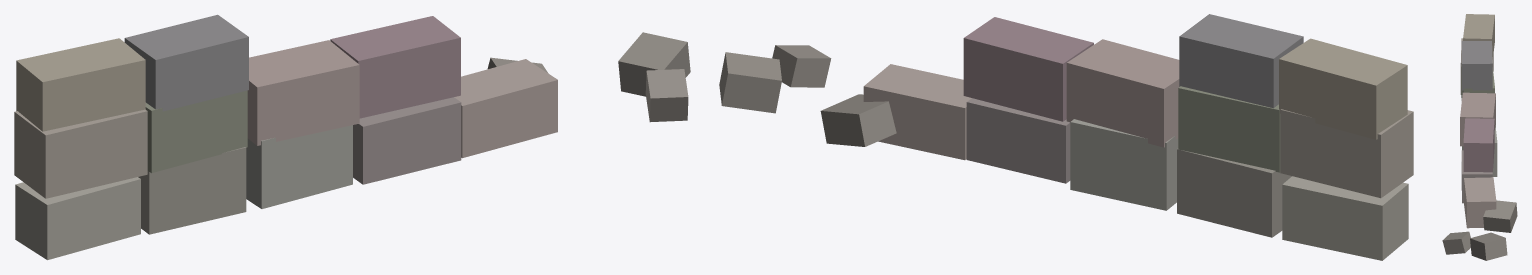
The model's file is ruined_wall.glb.
3 renders of one model, left to right at view 1: azimuth 30°, elevation 25°; view 2: azimuth 150°, elevation 25°; view 3: azimuth 270°, elevation 25°, orthographic. The views are drawn at different scales.
Visible parts, largest first — view 1: stone_block_07, stone_block_09, stone_block_05, stone_block_08, stone_block_10, stone_block_00, stone_block_04, stone_block_03, stone_block_02, stone_block_01, stone_block_06, stone_debris_00 (+1 smaller); view 2: stone_block_09, stone_block_07, stone_block_08, stone_block_05, stone_block_00, stone_block_10, stone_block_02, stone_block_01, stone_block_04, stone_block_03, stone_block_06, stone_debris_00 (+2 smaller); view 3: stone_block_08, stone_block_10, stone_block_04, stone_block_07, stone_debris_01, stone_block_09, stone_debris_00, stone_debris_02, stone_block_03, stone_block_06, stone_block_02, stone_block_05.
Part boxes in pixels (x1,y1,x2,y2): stone_block_07: (247,40,359,145); stone_block_09: (16,38,145,131); stone_block_05: (14,109,147,198); stone_block_08: (330,16,460,118); stone_block_10: (124,14,248,111); stone_block_00: (15,177,140,260); stone_block_04: (454,59,557,158); stone_block_03: (353,97,461,184); stone_block_02: (246,125,352,208); stone_block_01: (138,147,246,234); stone_block_06: (145,90,247,173); stone_debris_00: (618,32,690,96); stone_block_09: (1279,38,1407,139); stone_block_07: (1066,39,1179,147); stone_block_08: (963,17,1093,121); stone_block_05: (1280,109,1413,198); stone_block_00: (1282,176,1408,260); stone_block_10: (1179,14,1303,108); stone_block_02: (1070,119,1178,210); stone_block_01: (1177,148,1291,237); stone_block_04: (863,64,971,160); stone_block_03: (966,98,1070,183); stone_block_06: (1178,86,1280,172); stone_debris_00: (719,52,781,113); stone_block_08: (1463,118,1494,172); stone_block_10: (1461,41,1492,90); stone_block_04: (1464,177,1496,228); stone_block_07: (1460,92,1495,146); stone_debris_01: (1483,200,1517,232); stone_block_09: (1463,14,1494,59); stone_debris_00: (1470,232,1507,260); stone_debris_02: (1442,231,1470,254); stone_block_03: (1461,150,1492,203); stone_block_06: (1461,65,1494,100); stone_block_02: (1462,125,1497,176); stone_block_05: (1460,38,1493,94).
Bounding box in the file's own units: 5.74 × 1.45 × 1.11.
